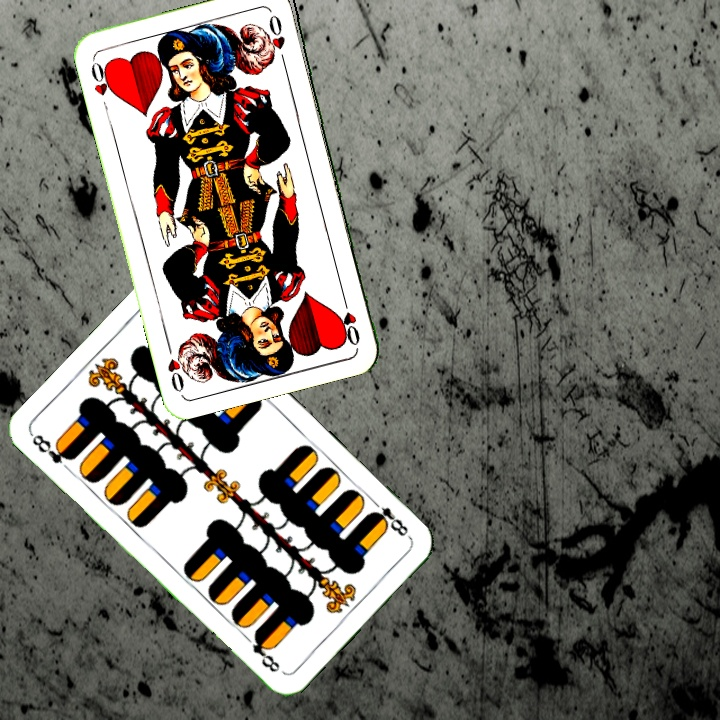E8: (366, 495, 413, 541), (27, 430, 77, 467)
HO: (87, 56, 118, 114), (338, 290, 363, 349)
